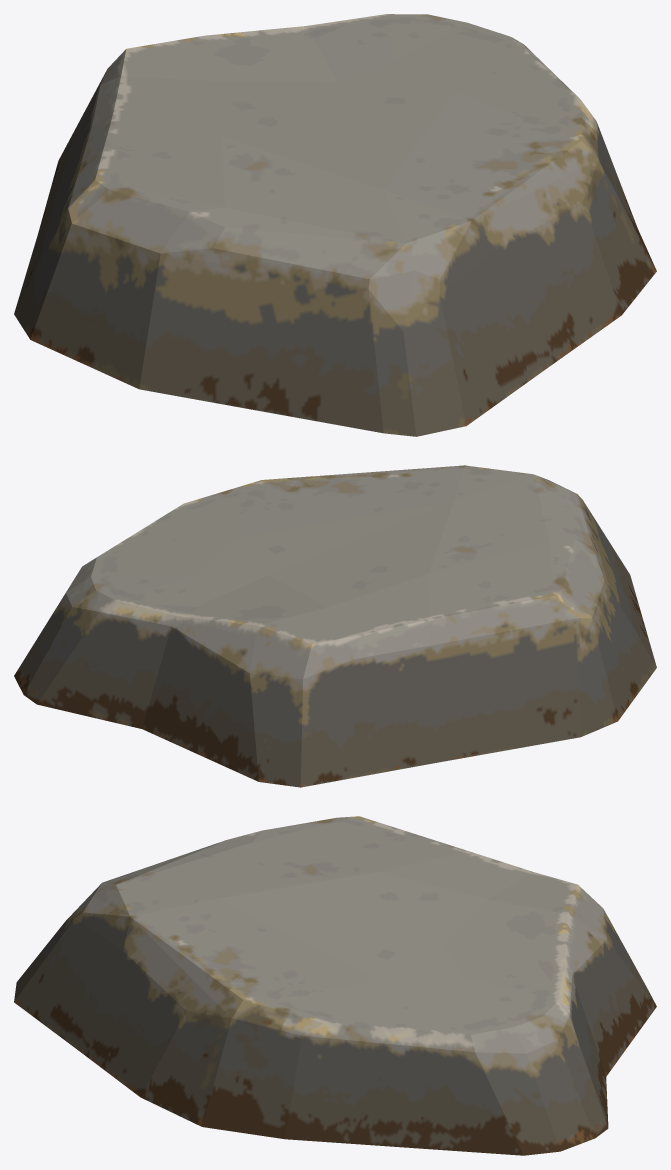
File: Pebble_Round_3__go_coast.glb
The picture shows the model from 3 angles, top to bottom: view 1: azimuth 30°, elevation 25°; view 2: azimuth 150°, elevation 25°; view 3: azimuth 270°, elevation 25°; orthographic projection. The views are drawn at different scales.
Visible parts, largest first — view 1: Pebble_Round_3; view 2: Pebble_Round_3; view 3: Pebble_Round_3.
Boxes of the visible parts, x1,y1,x2,y2 form: Pebble_Round_3: [14, 14, 656, 436]; Pebble_Round_3: [14, 465, 656, 787]; Pebble_Round_3: [14, 816, 656, 1155].
Size of the model in its own units: 0.4497 by 0.0986 by 0.4848.
Materials: 1 (1 with a texture image).
